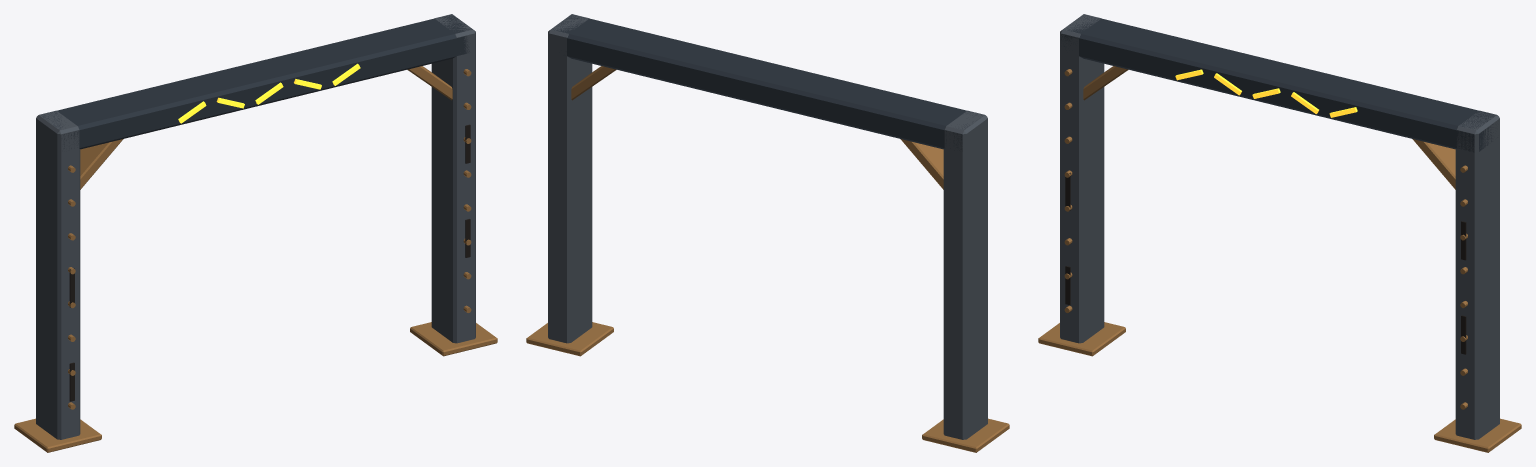
File: runtime.glb
3 renders of one model, left to right at view 1: azimuth 30°, elevation 25°; view 2: azimuth 150°, elevation 25°; view 3: azimuth 330°, elevation 25°, orthographic.
Parts seen in each view (by area): view 1: kinetic-tide-machine-frame-v07_plate_nocol, kinetic-tide-machine-frame-v07_steel_nocol, kinetic-tide-machine-frame-v07_bronze_nocol, kinetic-tide-machine-frame-v07_warningorange_nocol, kinetic-tide-machine-frame-v07_weardark_nocol; view 2: kinetic-tide-machine-frame-v07_plate_nocol, kinetic-tide-machine-frame-v07_steel_nocol, kinetic-tide-machine-frame-v07_bronze_nocol; view 3: kinetic-tide-machine-frame-v07_plate_nocol, kinetic-tide-machine-frame-v07_steel_nocol, kinetic-tide-machine-frame-v07_bronze_nocol, kinetic-tide-machine-frame-v07_warningorange_nocol, kinetic-tide-machine-frame-v07_weardark_nocol.
Part boxes in pixels (x1,y1,x2,y2): kinetic-tide-machine-frame-v07_plate_nocol: (36, 14, 475, 439); kinetic-tide-machine-frame-v07_steel_nocol: (41, 14, 472, 149); kinetic-tide-machine-frame-v07_bronze_nocol: (14, 66, 497, 452); kinetic-tide-machine-frame-v07_warningorange_nocol: (178, 63, 360, 123); kinetic-tide-machine-frame-v07_weardark_nocol: (69, 124, 470, 401); kinetic-tide-machine-frame-v07_plate_nocol: (548, 14, 987, 439); kinetic-tide-machine-frame-v07_steel_nocol: (553, 14, 983, 151); kinetic-tide-machine-frame-v07_bronze_nocol: (526, 66, 1009, 452); kinetic-tide-machine-frame-v07_plate_nocol: (1060, 14, 1499, 439); kinetic-tide-machine-frame-v07_steel_nocol: (1061, 15, 1497, 152); kinetic-tide-machine-frame-v07_bronze_nocol: (1038, 66, 1521, 452); kinetic-tide-machine-frame-v07_warningorange_nocol: (1175, 69, 1357, 117); kinetic-tide-machine-frame-v07_weardark_nocol: (1065, 171, 1466, 354).
Size of the model in its own units: 12.32 by 8.2 by 1.59.
